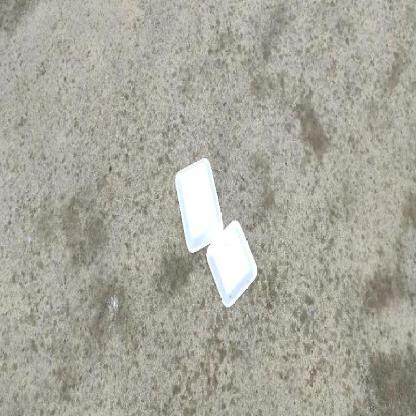Glass Cup: (175, 159, 224, 252), (175, 158, 223, 252), (207, 216, 257, 306), (206, 220, 257, 307)
